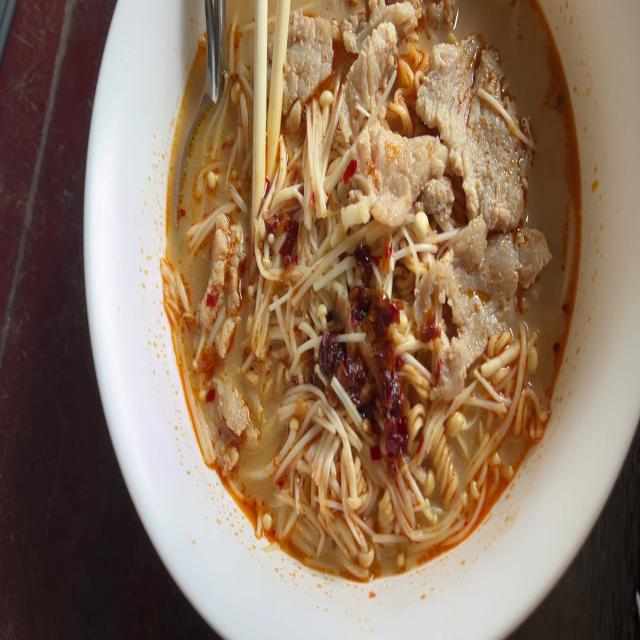noodle: (154, 0, 589, 587)
